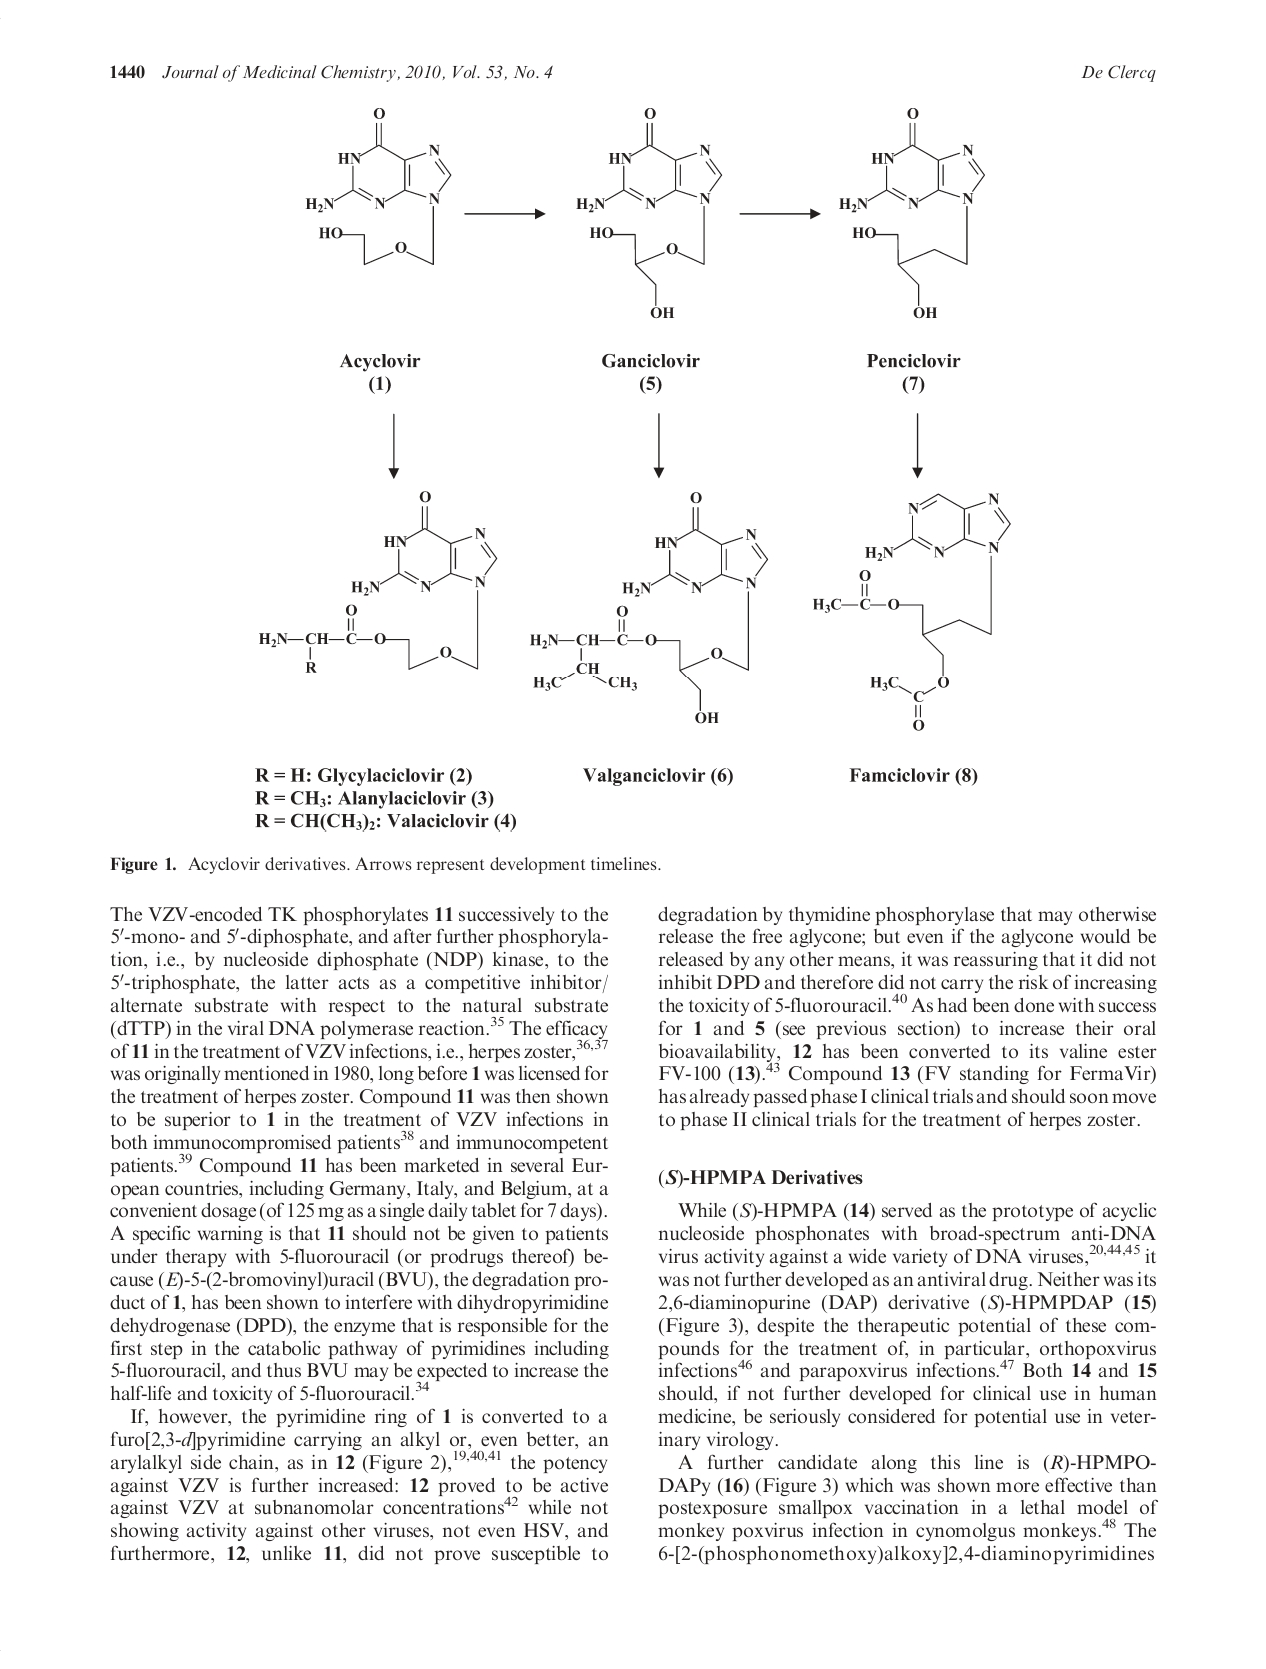exist_molecular: (531, 489, 771, 727), (813, 491, 1012, 734), (257, 489, 500, 676), (574, 105, 723, 322), (840, 106, 987, 321), (306, 105, 453, 269)
